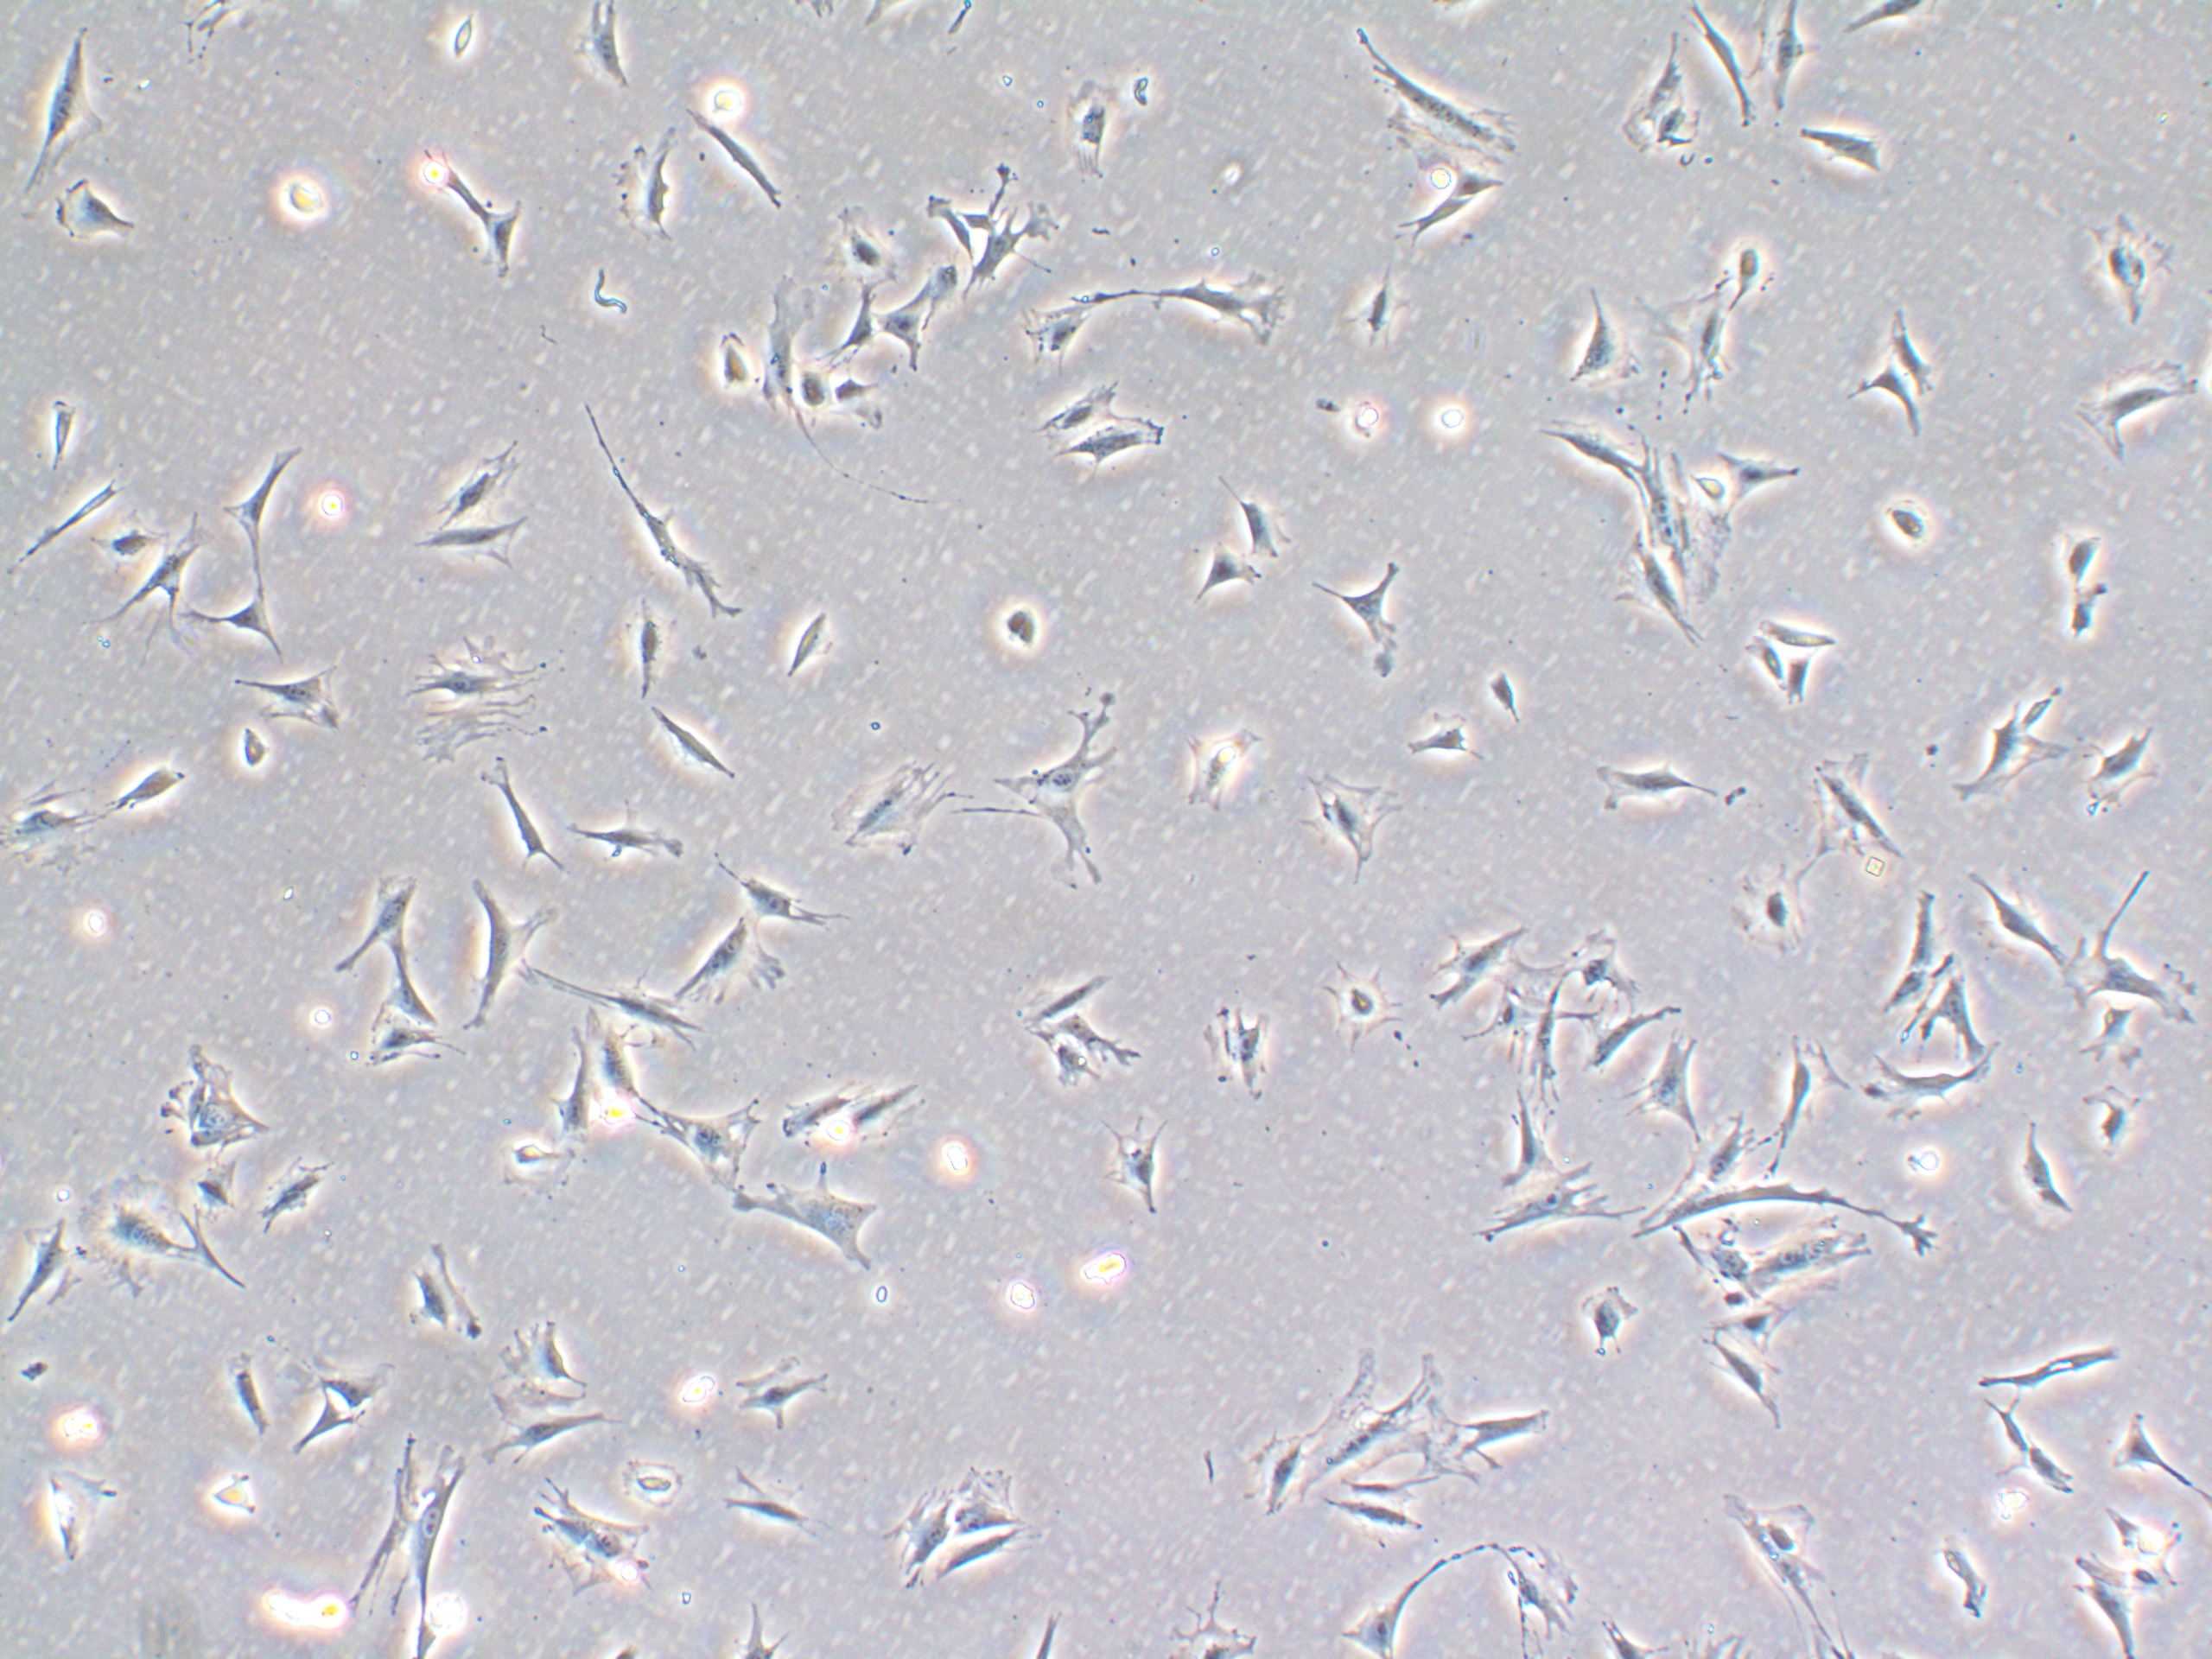small: (1310, 953, 1413, 1058), (1869, 484, 1951, 570), (972, 586, 1052, 666), (615, 1450, 702, 1523), (260, 164, 340, 240), (1461, 653, 1541, 721), (709, 322, 763, 413), (202, 1462, 266, 1525), (432, 14, 493, 77), (1341, 401, 1404, 455), (226, 721, 275, 782)
spread: (1245, 1340, 1470, 1558), (305, 1422, 500, 1640), (1334, 21, 1534, 190), (989, 697, 1139, 908), (1465, 1086, 1634, 1263), (1597, 423, 1740, 617), (399, 627, 550, 793), (2055, 321, 2203, 490), (632, 1082, 796, 1223), (134, 1028, 282, 1178), (49, 1168, 195, 1314), (1696, 1211, 1878, 1323), (826, 735, 968, 875), (2067, 200, 2189, 350), (1484, 931, 1597, 1089), (1635, 272, 1759, 401), (1717, 835, 1832, 972)
